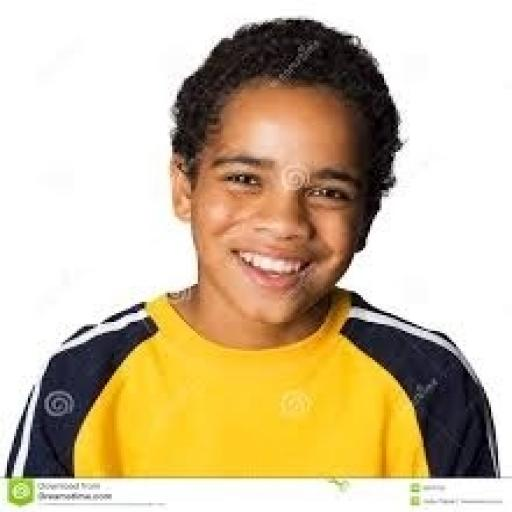laughing: (0, 14, 503, 476)
